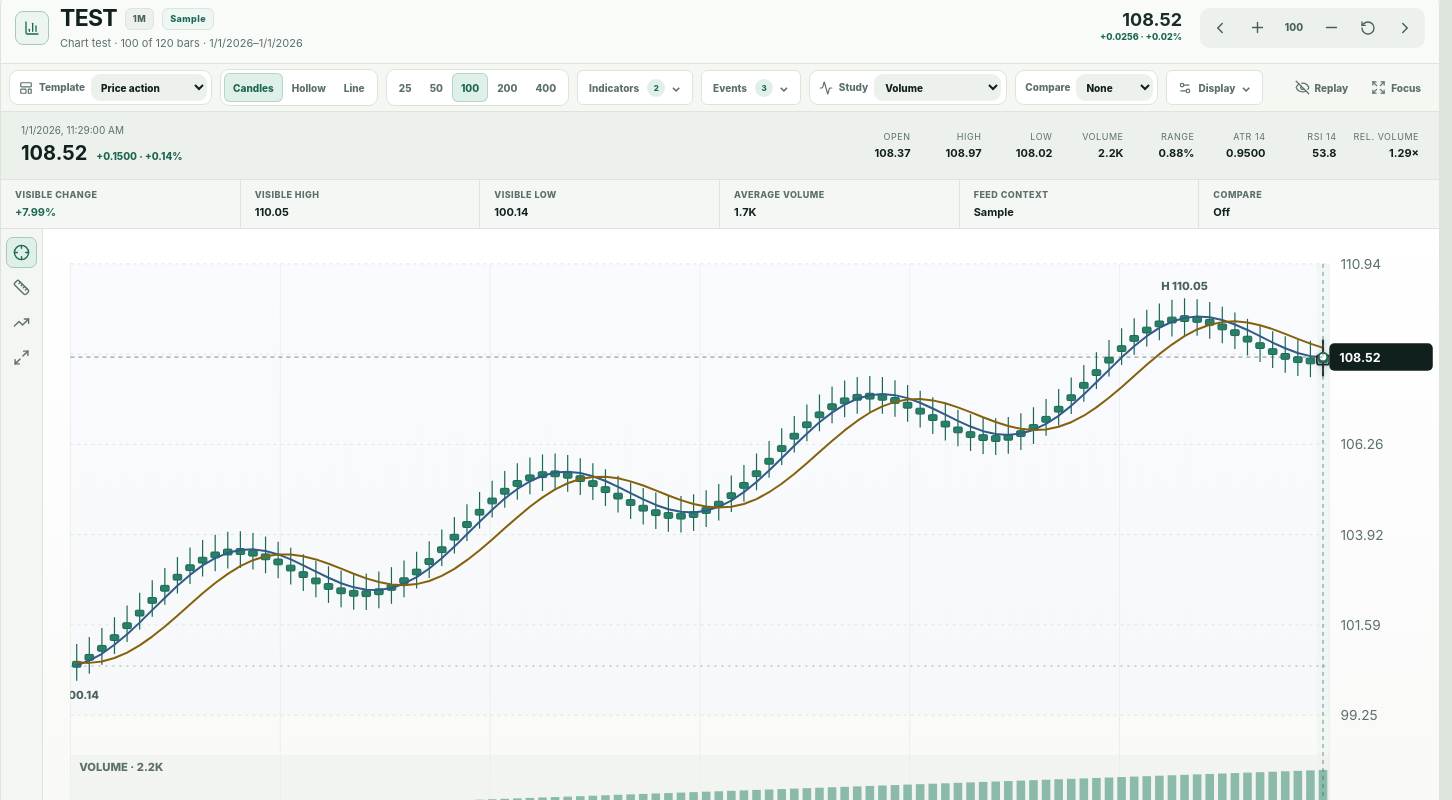
Test: MarketChart › applies professional chart templates and hollow candles
Select "Trend structure" in the dropdown named "Chart template". click: [149, 88]
box: [91,74,207,101]
(page scrolled)
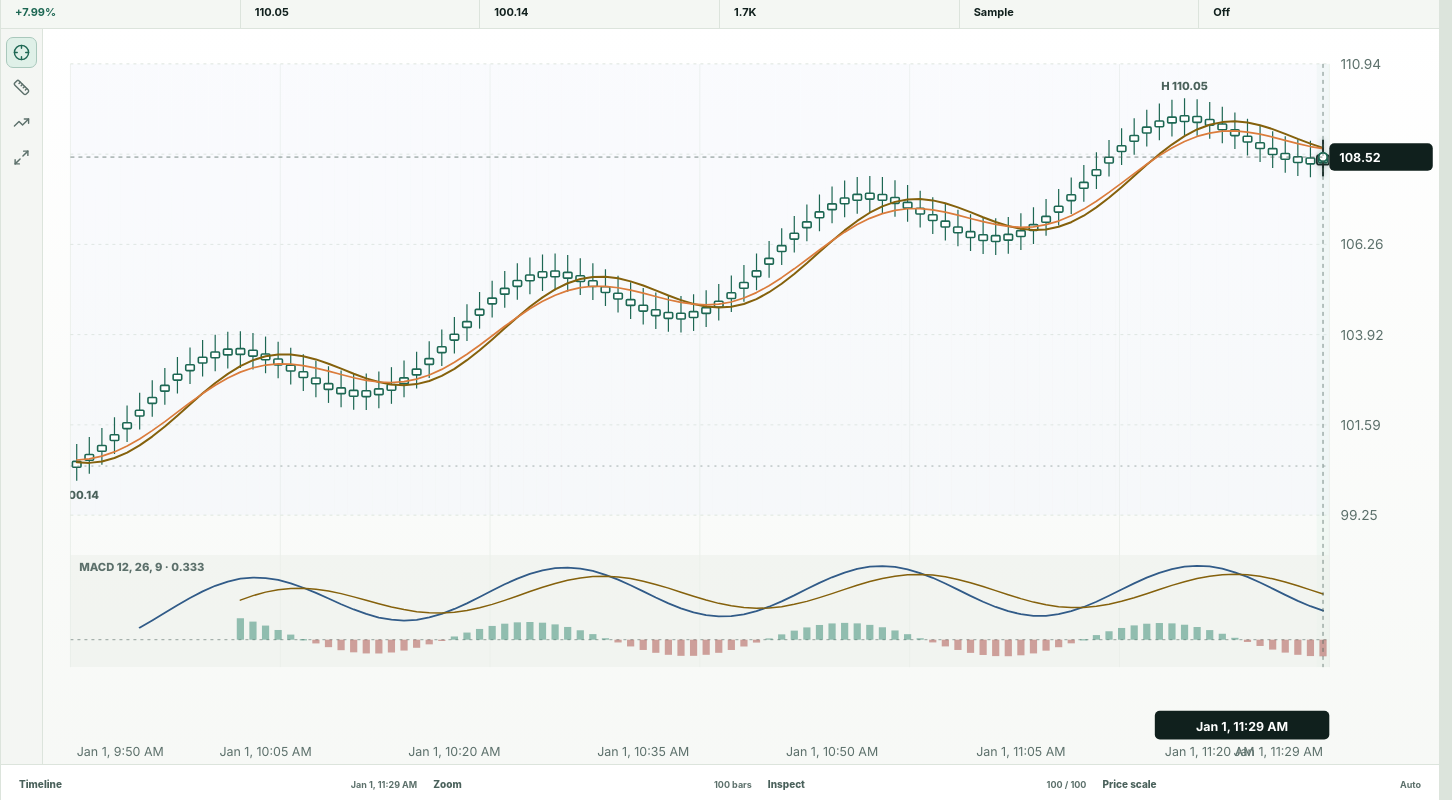
Expected: the icon named "interactive hollow chart" is shown
